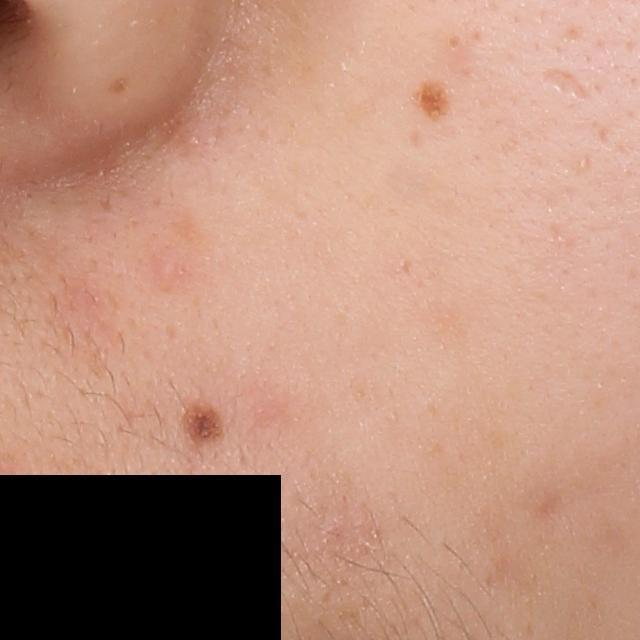atrophic_scar: (539, 68, 590, 104)
comedo: (437, 28, 468, 54)
nevus: (176, 397, 227, 447), (416, 79, 454, 123)
